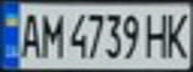3: (103, 10, 124, 60)
4: (63, 9, 87, 58)
7: (84, 9, 106, 60)
9: (121, 9, 145, 60)
A: (15, 9, 45, 60)
H: (142, 8, 172, 60)
K: (163, 8, 193, 60)
M: (36, 9, 66, 58)
